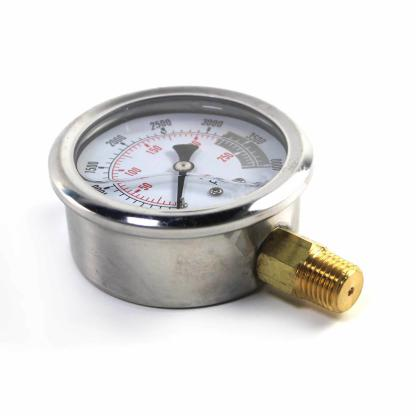needle: (176, 170, 188, 210)
